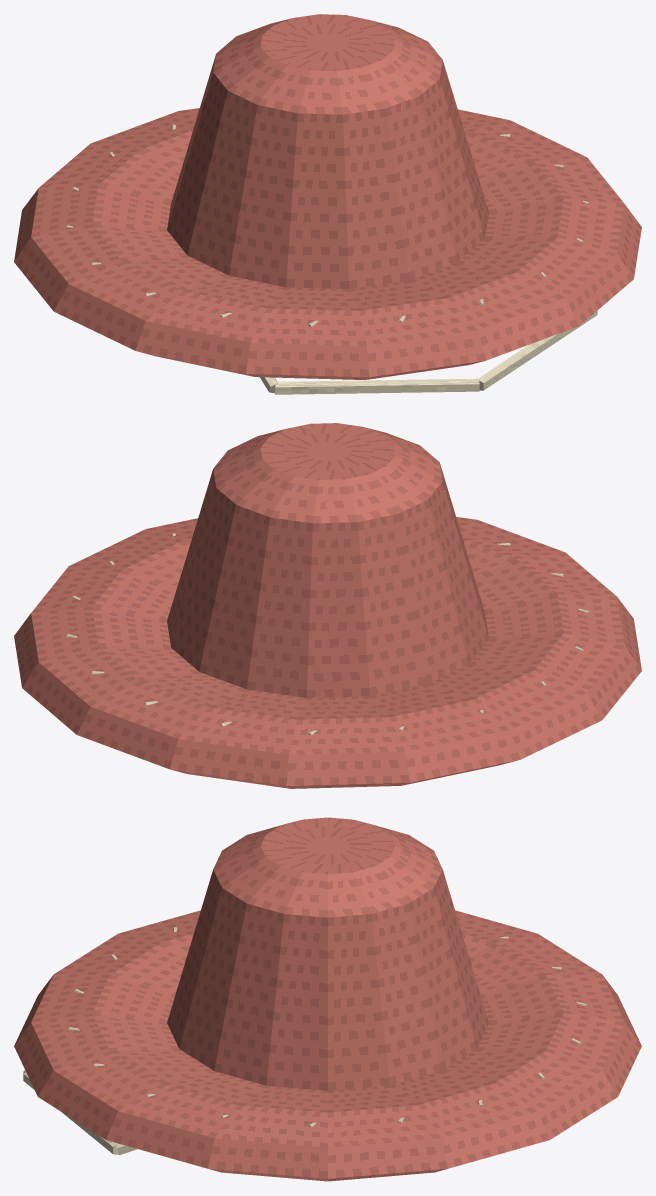
The model's file is hat_sombrero.glb.
The picture shows the model from 3 angles, top to bottom: view 1: azimuth 30°, elevation 25°; view 2: azimuth 150°, elevation 25°; view 3: azimuth 270°, elevation 25°; orthographic projection.
Parts seen in each view (by area): view 1: block_shaped hat crown and brim, block_thin chin cord 1, block_thin chin cord 2; view 2: block_shaped hat crown and brim; view 3: block_shaped hat crown and brim.
Boxes of the visible parts, <box> form: block_shaped hat crown and brim: <box>14,14,641,379</box>; block_thin chin cord 1: <box>274,378,479,394</box>; block_thin chin cord 2: <box>477,310,597,390</box>; block_shaped hat crown and brim: <box>14,423,641,788</box>; block_shaped hat crown and brim: <box>14,817,641,1181</box>.
Size of the model in its own units: 0.3826 by 0.1588 by 0.3826.
1 material, 1 textured.
